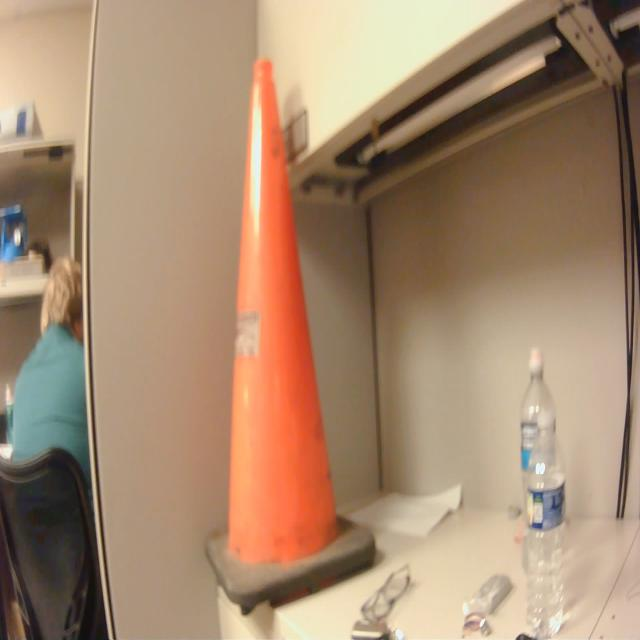traffic cone: (197, 51, 383, 619)
